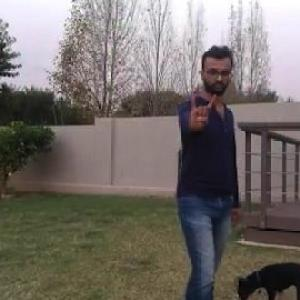takeoff-hand: (181, 86, 221, 136)
